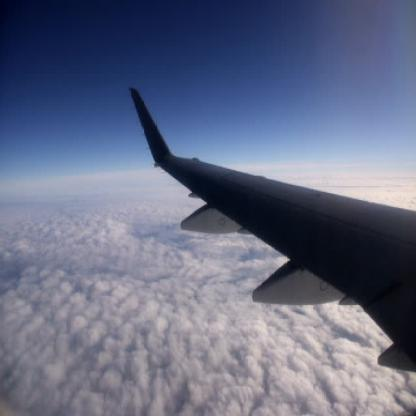CIV_Plane: (126, 84, 416, 364)
